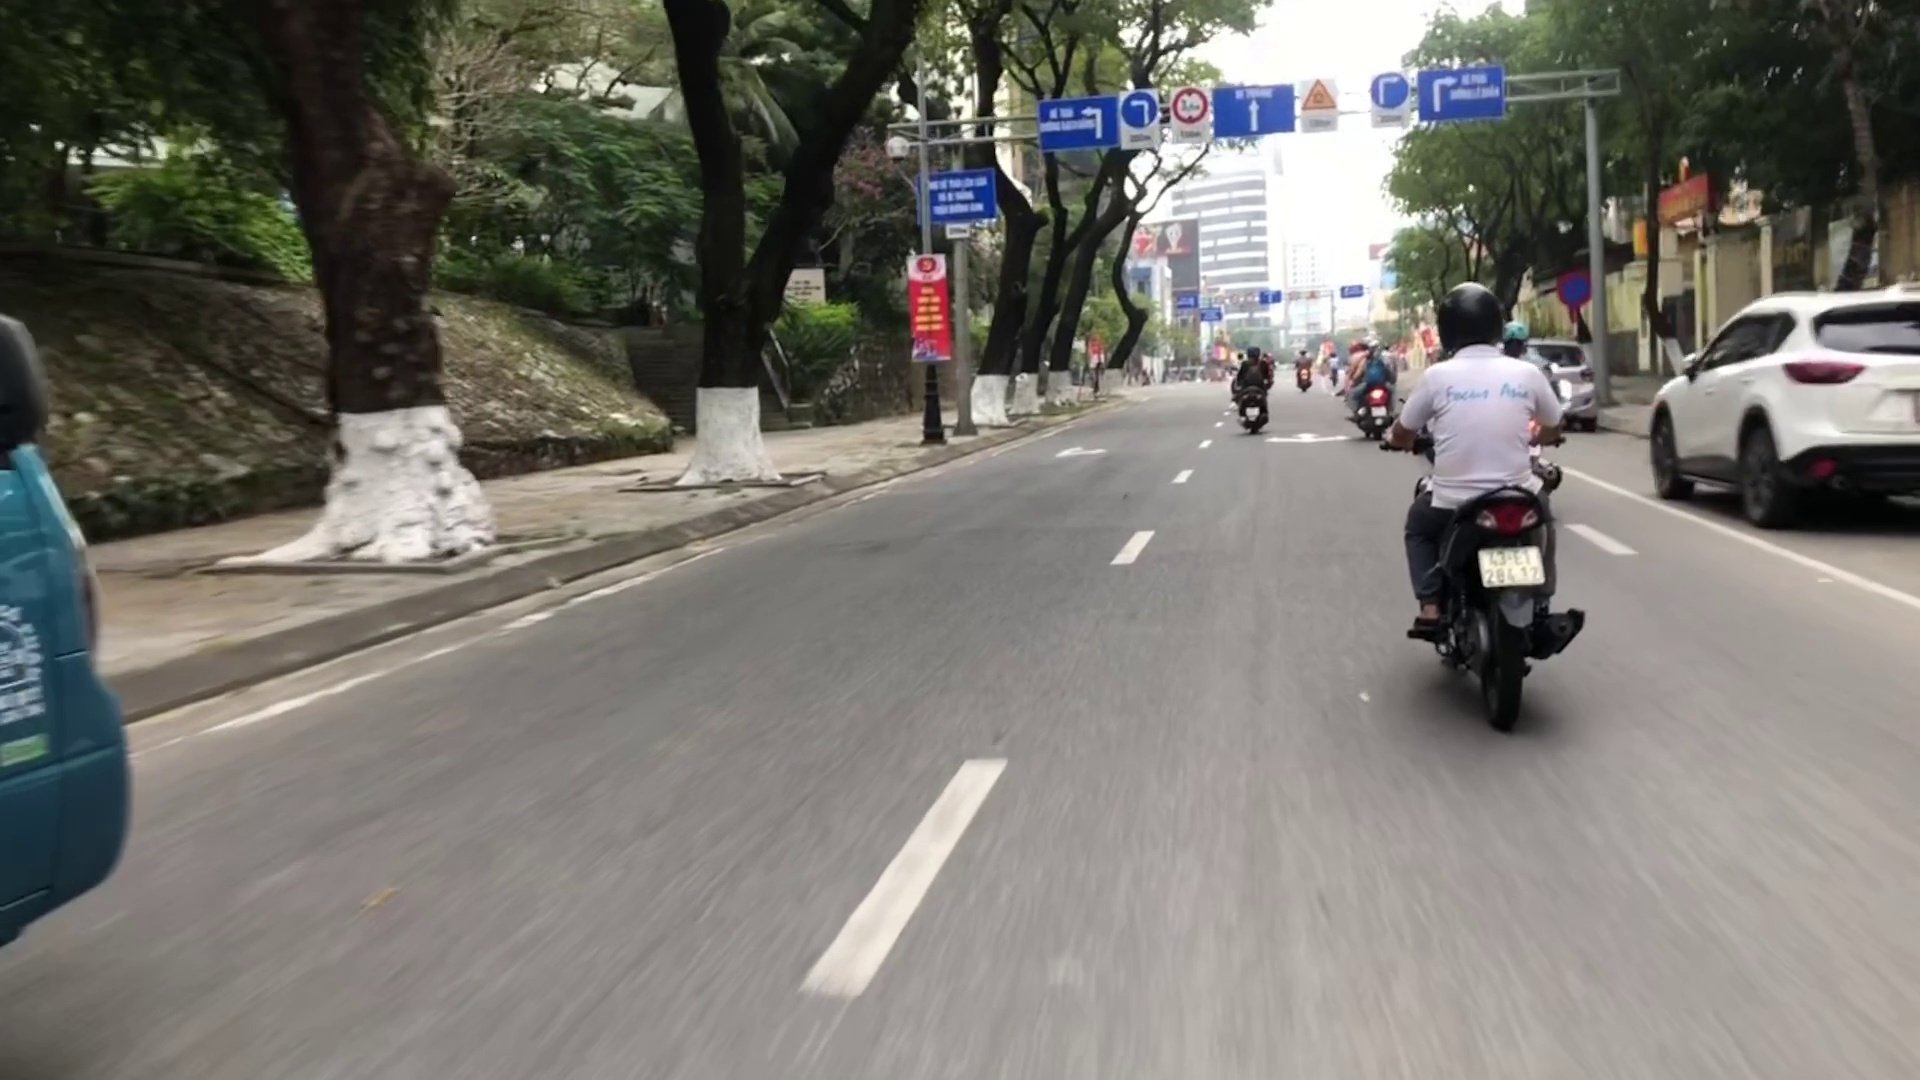Bien khac: (1367, 71, 1407, 131), (1122, 91, 1158, 146), (1170, 88, 1207, 138), (1298, 80, 1335, 131)
